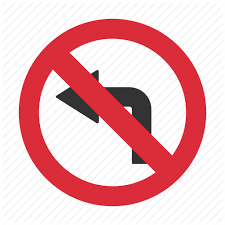No_left_turn: (18, 19, 206, 206)
